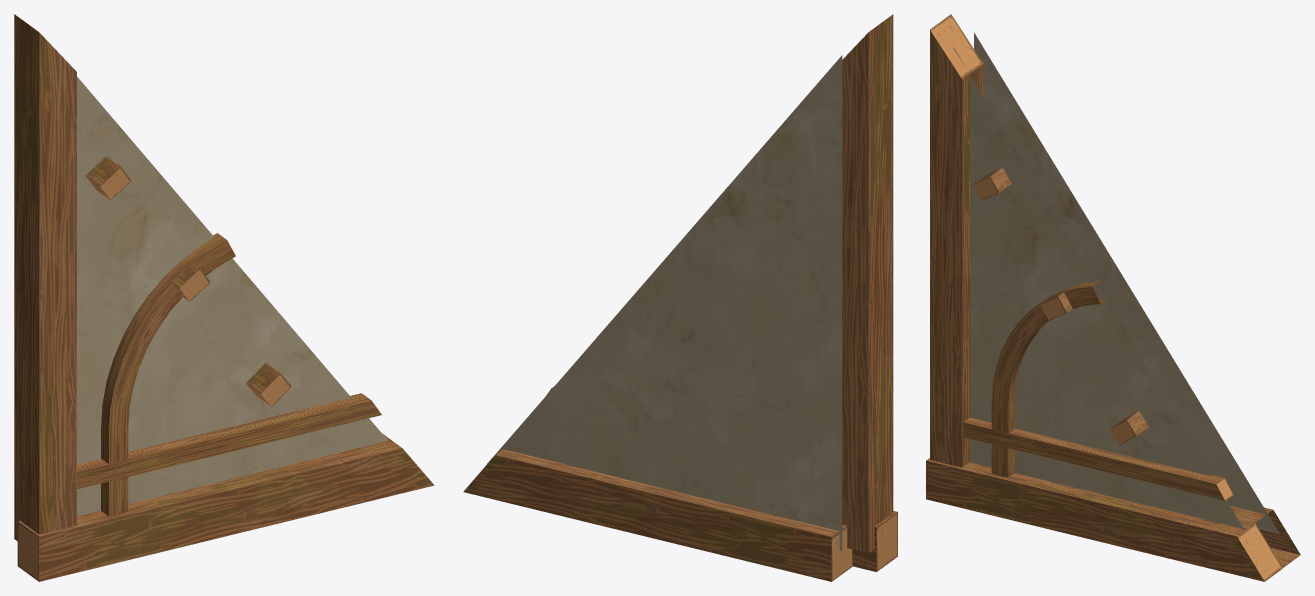
Rendered from roof_front_brick4_half_r.gltf.
The picture shows the model from 3 angles, left to right: view 1: azimuth 30°, elevation 25°; view 2: azimuth 150°, elevation 25°; view 3: azimuth 330°, elevation 25°; orthographic projection. The views are drawn at different scales.
Visible parts, largest first — view 1: Roof_Front_Brick4_Half_R; view 2: Roof_Front_Brick4_Half_R; view 3: Roof_Front_Brick4_Half_R.
Part boxes in pixels (box(x1,y1,x2,y2)): Roof_Front_Brick4_Half_R: box(14, 14, 434, 581); Roof_Front_Brick4_Half_R: box(463, 14, 897, 581); Roof_Front_Brick4_Half_R: box(926, 14, 1300, 581).
Size of the model in its own units: 2.42 by 3.2 by 0.4896.
2 materials, 2 textured.
